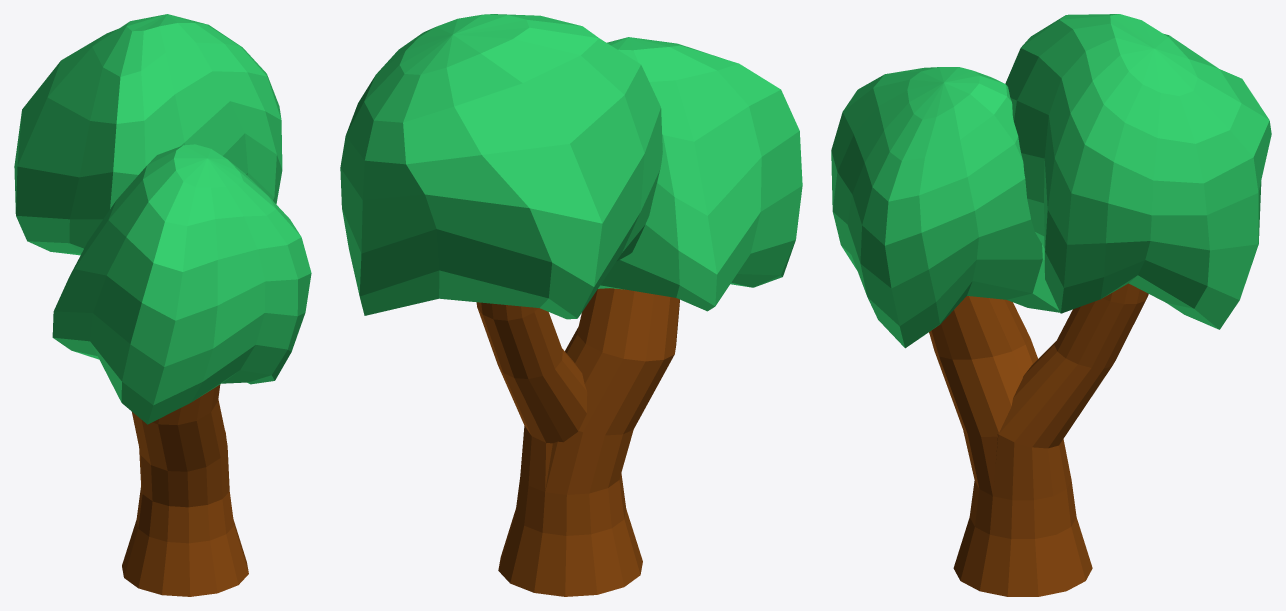
Rendered from Tree3.fbx.
The picture shows the model from 3 angles, left to right: view 1: azimuth 30°, elevation 25°; view 2: azimuth 150°, elevation 25°; view 3: azimuth 270°, elevation 25°; orthographic projection. The views are drawn at different scales.
Parts seen in each view (by area): view 1: Sphere, Cylinder; view 2: Sphere, Cylinder; view 3: Sphere, Cylinder.
Part boxes in pixels (left/top/right/bottom): Sphere: left=14, top=14, right=311, bottom=424; Cylinder: left=122, top=384, right=248, bottom=596; Sphere: left=340, top=14, right=802, bottom=319; Cylinder: left=476, top=288, right=679, bottom=596; Sphere: left=831, top=14, right=1271, bottom=348; Cylinder: left=929, top=283, right=1148, bottom=596.
Size of the model in its own units: 860 by 1585 by 1145.
